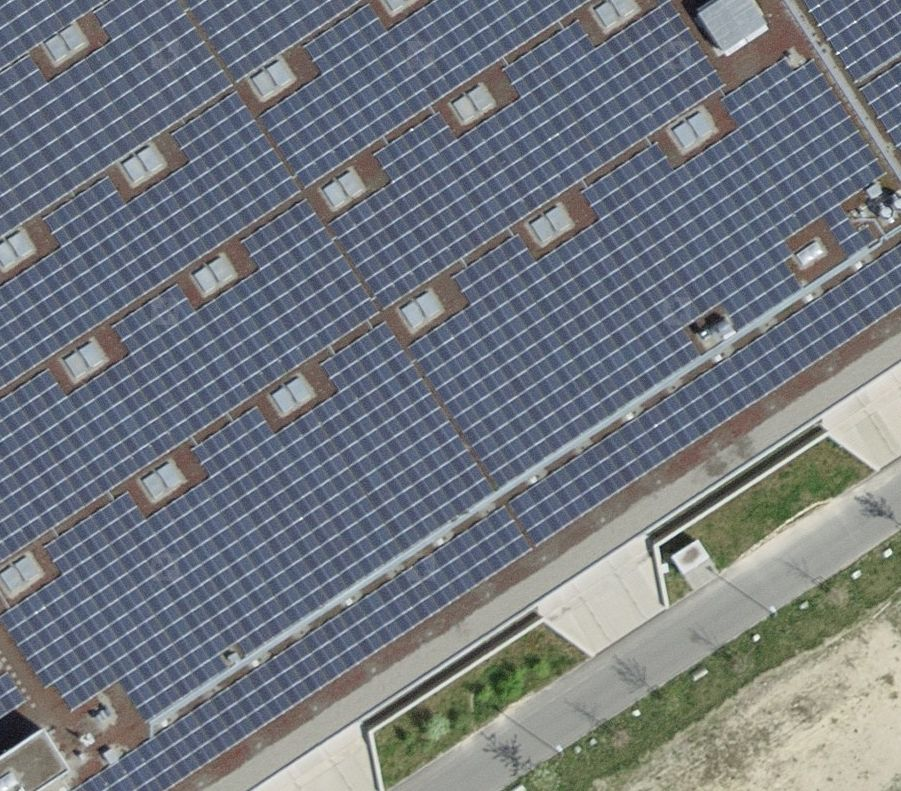solar: (2, 2, 901, 789)
